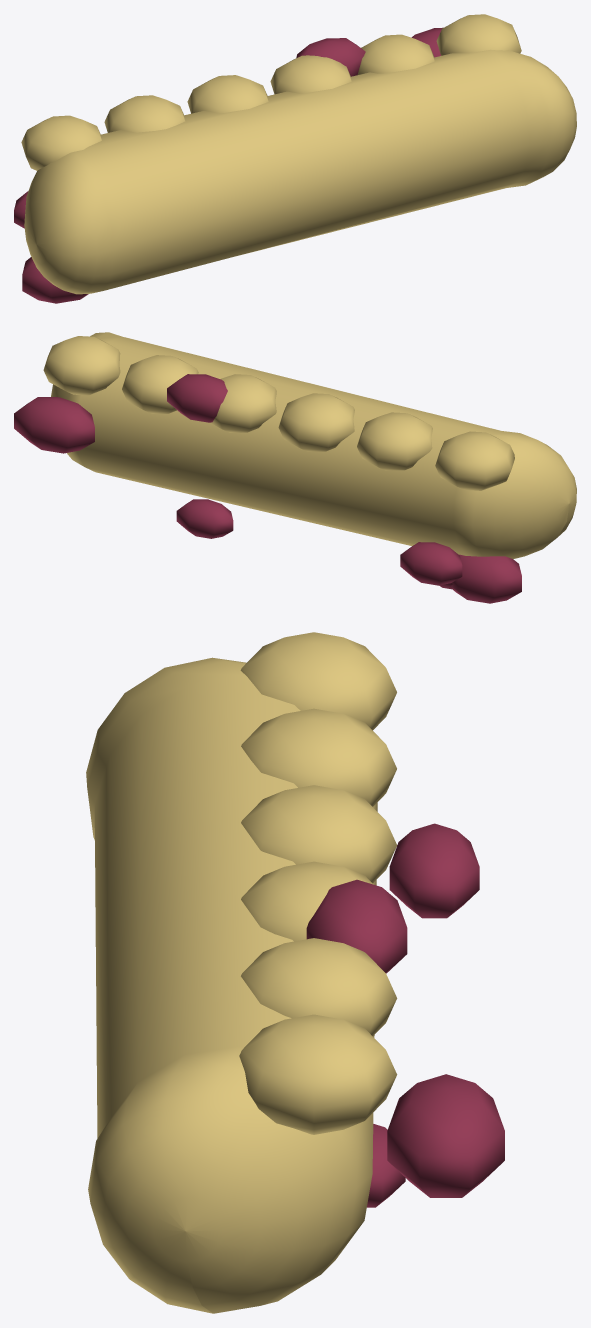
File: vaina-frejol.glb
3 renders of one model, top to bottom at view 1: azimuth 30°, elevation 25°; view 2: azimuth 150°, elevation 25°; view 3: azimuth 270°, elevation 25°, orthographic. The views are drawn at different scales.
Visible parts, largest first — view 1: cuerpo, bulto0, bulto5, bulto3, bulto2, bulto1, bulto4, mota0, mota6, mota1; view 2: cuerpo, bulto0, bulto5, mota1, bulto2, bulto1, bulto3, bulto4, mota6, mota0, mota2, mota3; view 3: cuerpo, bulto5, mota1, bulto4, bulto2, bulto1, bulto0, mota2, mota0, bulto3, mota3.
Part boxes in pixels (bbox=[...]): cuerpo: bbox=[24, 49, 576, 294]; bulto0: bbox=[21, 115, 101, 170]; bulto5: bbox=[436, 14, 521, 55]; bulto3: bbox=[270, 55, 351, 94]; bulto2: bbox=[187, 75, 268, 113]; bulto1: bbox=[104, 95, 185, 132]; bulto4: bbox=[357, 34, 434, 74]; mota0: bbox=[296, 38, 365, 76]; mota6: bbox=[22, 257, 88, 303]; mota1: bbox=[411, 27, 443, 57]; cuerpo: bbox=[51, 332, 576, 558]; bulto0: bbox=[435, 431, 514, 490]; bulto5: bbox=[43, 336, 120, 395]; mota1: bbox=[14, 397, 94, 453]; bulto2: bbox=[278, 393, 354, 451]; bulto1: bbox=[357, 412, 432, 470]; bulto3: bbox=[210, 374, 276, 432]; bulto4: bbox=[122, 355, 198, 413]; mota6: bbox=[451, 554, 521, 603]; mota0: bbox=[167, 374, 227, 422]; mota2: bbox=[400, 542, 462, 585]; mota3: bbox=[176, 499, 233, 538]; cuerpo: bbox=[86, 657, 377, 1313]; bulto5: bbox=[239, 1014, 397, 1134]; mota1: bbox=[387, 1074, 504, 1197]; bulto4: bbox=[241, 938, 397, 1036]; bulto2: bbox=[241, 785, 397, 883]; bulto1: bbox=[241, 708, 396, 806]; bulto0: bbox=[240, 632, 396, 730]; mota2: bbox=[389, 823, 479, 918]; mota0: bbox=[306, 879, 407, 973]; bulto3: bbox=[241, 861, 373, 941]; mota3: bbox=[367, 1124, 405, 1207].
Size of the model in its own units: 0.8245 by 0.2623 by 0.2963.
